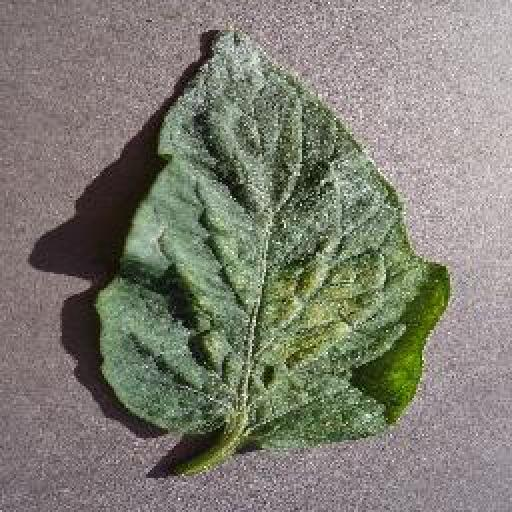Spider Mites: (92, 27, 451, 445)
